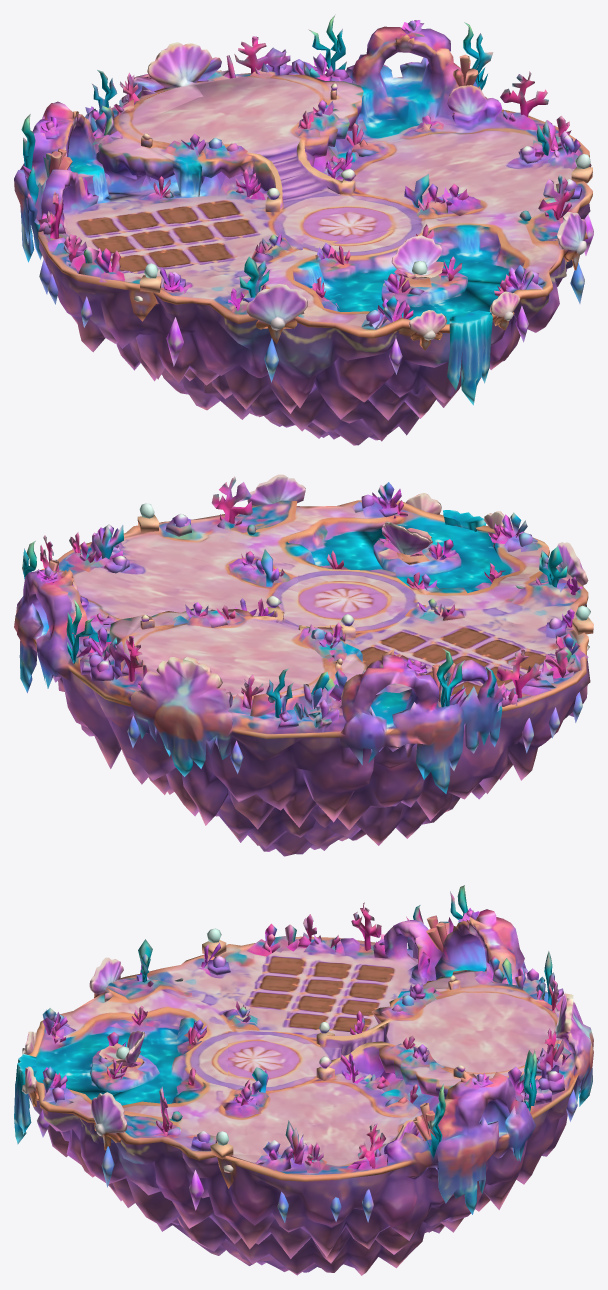
Rendered from pearl-reef-sanctuary.glb.
The picture shows the model from 3 angles, top to bottom: view 1: azimuth 30°, elevation 25°; view 2: azimuth 150°, elevation 25°; view 3: azimuth 270°, elevation 25°; orthographic projection. The views are drawn at different scales.
Visible parts, largest first — view 1: geometry_0; view 2: geometry_0; view 3: geometry_0.
Part boxes in pixels (x1,y1,x2,y2): geometry_0: (14,14,593,445); geometry_0: (14,474,593,856); geometry_0: (14,885,593,1275).
Bounding box in the file's own units: 0.9307 × 0.522 × 0.9478.
1 material, 1 textured.
